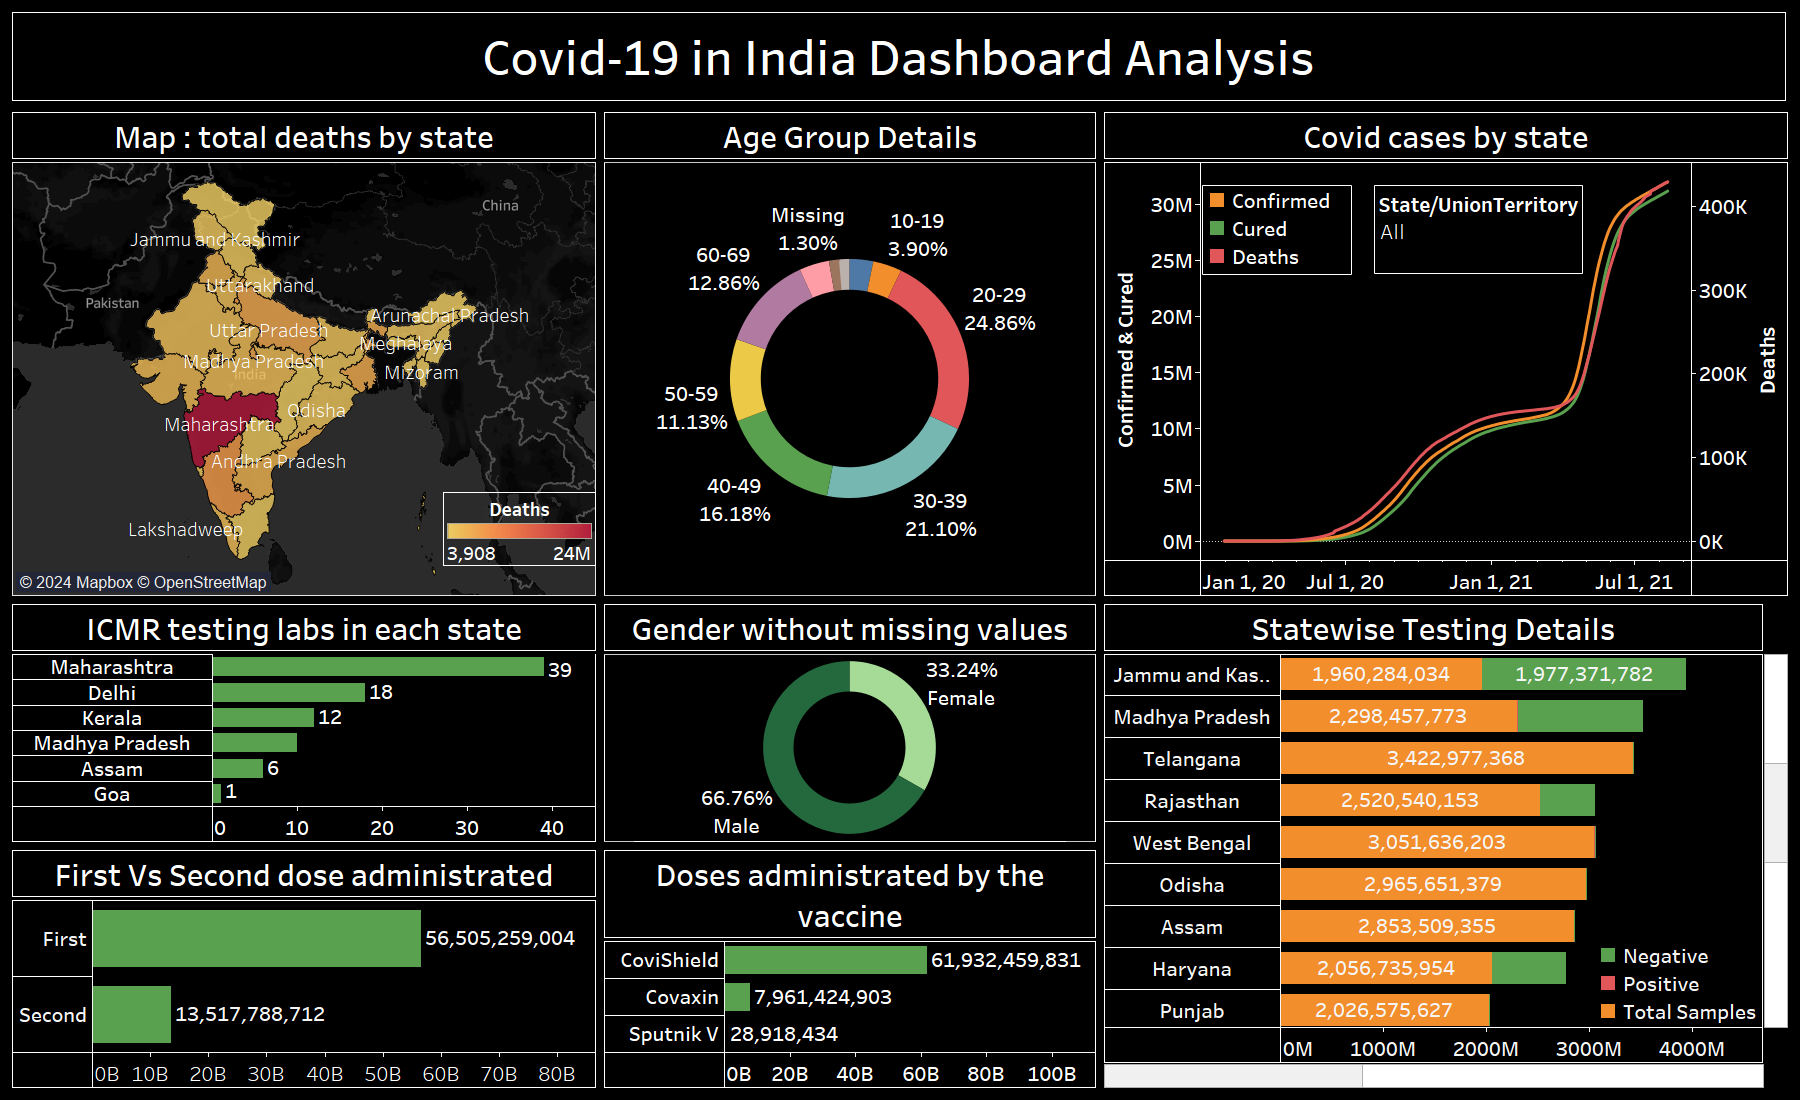

The page's visual inventory and layout, read from the dashboard file:
{"tool":"tableau","page":{"name":"Dashboard 1","canvas":[1800,1100],"ordinal":0},"visuals":[{"type":"worksheet","title":"Title","mark":"Automatic","box":[8,8,1784,100]},{"type":"worksheet","title":"Map : total deaths by state","mark":"Automatic","box":[8,108,592,492]},{"type":"worksheet","title":"Age Group Details","mark":"Pie","rows":["Calculation_2780972818919837697","Calculation_2780972818919837697"],"box":[600,108,500,492]},{"type":"worksheet","title":"Covid cases by state","mark":"Automatic","rows":["Deaths"],"cols":["Date"],"box":[1100,108,692,492]},{"type":"legend","title":"Covid cases by state","param":"[federated.08nnfa70m6znzx1asm0qv1j17meq].[:Measure Names]","box":[1202,185,150,90]},{"type":"filter","title":"Covid cases by state","param":"[federated.08nnfa70m6znzx1asm0qv1j17meq].[none:State/UnionTerritory:nk]","box":[1374,185,209,89]},{"type":"legend","title":"Map : total deaths by state","param":"[federated.08nnfa70m6znzx1asm0qv1j17meq].[sum:Deaths:qk]","box":[443,492,153,100]},{"type":"worksheet","title":"ICMR testing labs in each state","mark":"Automatic","rows":["state"],"cols":["lab"],"box":[8,600,592,246]},{"type":"worksheet","title":"Gender without missing values","mark":"Pie","rows":["Calculation_2780972818922258435","Calculation_2780972818922258435"],"box":[600,600,500,246]},{"type":"worksheet","title":"Statewise Testing Details","mark":"Automatic","rows":["State"],"box":[1100,600,692,492]},{"type":"worksheet","title":"First Vs Second dose administrated","mark":"Automatic","box":[8,846,592,246]},{"type":"worksheet","title":"Doses administrated by the vaccine","mark":"Automatic","box":[600,846,500,246]},{"type":"legend","title":"Statewise Testing Details","param":"[federated.1tma5vk1bvezew190m2q01lee4g6].[:Measure Names]","box":[1594,941,167,84]}]}

Visuals, with their boxes in screenshot pixels (x1, y1, x2, y2), scaled from the page's 1800x1100 canvas onto the 1800x1100 screenshot:
"Title" worksheet: x1=8 y1=8 x2=1792 y2=108
"Map : total deaths by state" worksheet: x1=8 y1=108 x2=600 y2=600
"Age Group Details" worksheet (Pie marks): x1=600 y1=108 x2=1100 y2=600
"Covid cases by state" worksheet: x1=1100 y1=108 x2=1792 y2=600
"Covid cases by state" legend: x1=1202 y1=185 x2=1352 y2=275
"Covid cases by state" filter: x1=1374 y1=185 x2=1583 y2=274
"Map : total deaths by state" legend: x1=443 y1=492 x2=596 y2=592
"ICMR testing labs in each state" worksheet: x1=8 y1=600 x2=600 y2=846
"Gender without missing values" worksheet (Pie marks): x1=600 y1=600 x2=1100 y2=846
"Statewise Testing Details" worksheet: x1=1100 y1=600 x2=1792 y2=1092
"First Vs Second dose administrated" worksheet: x1=8 y1=846 x2=600 y2=1092
"Doses administrated by the vaccine" worksheet: x1=600 y1=846 x2=1100 y2=1092
"Statewise Testing Details" legend: x1=1594 y1=941 x2=1761 y2=1025
